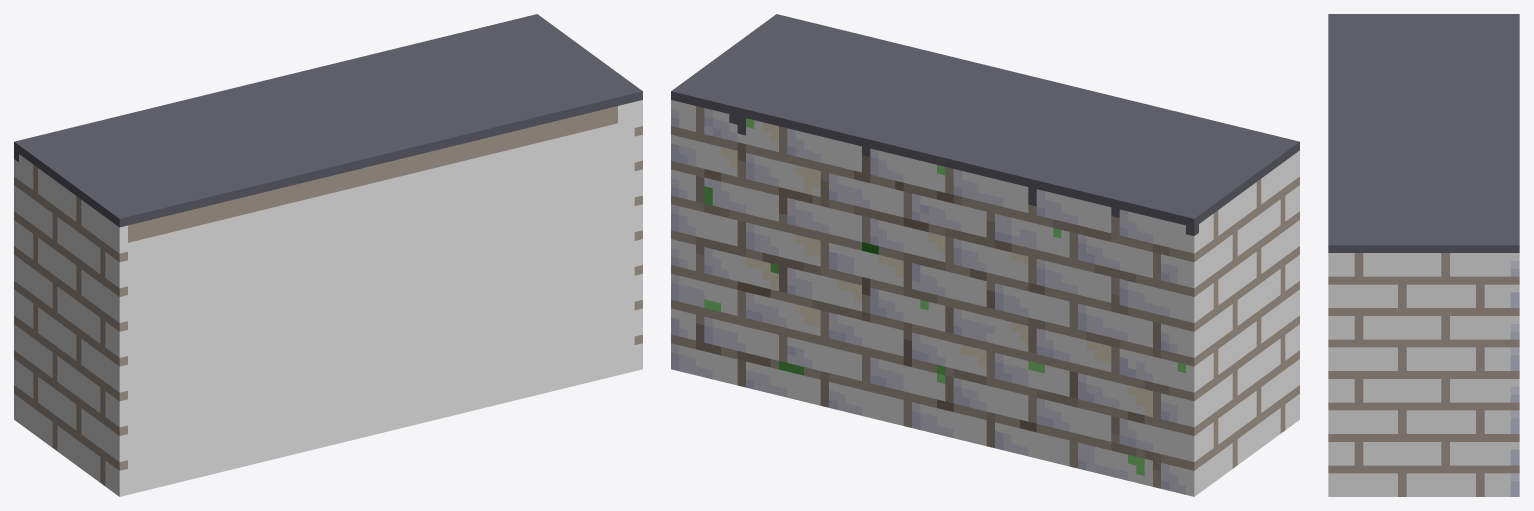
Rendered from basic1.FBX.
The picture shows the model from 3 angles, left to right: view 1: azimuth 30°, elevation 25°; view 2: azimuth 150°, elevation 25°; view 3: azimuth 270°, elevation 25°; orthographic projection. The views are drawn at different scales.
Parts seen in each view (by area): view 1: default; view 2: default; view 3: default.
Boxes of the visible parts, <box> form: default: <box>14,14,642,496</box>; default: <box>671,14,1299,496</box>; default: <box>1328,14,1519,496</box>.
Size of the model in its own units: 1890 by 960 by 660.
